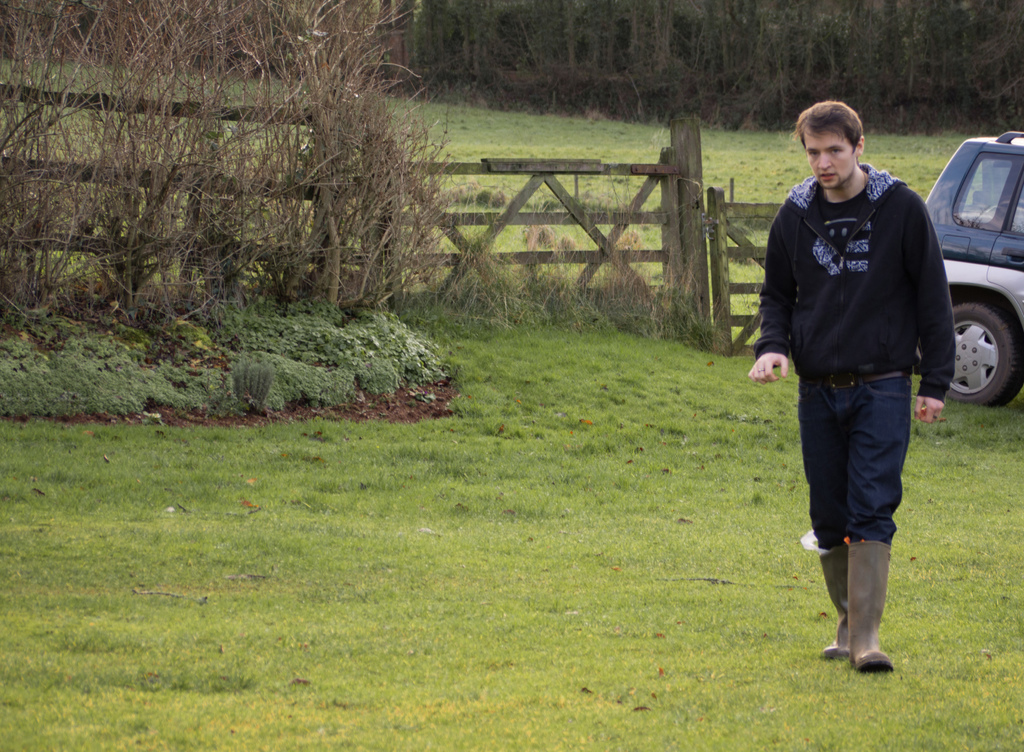Tree: (3, 0, 448, 355), (424, 0, 1023, 107)
